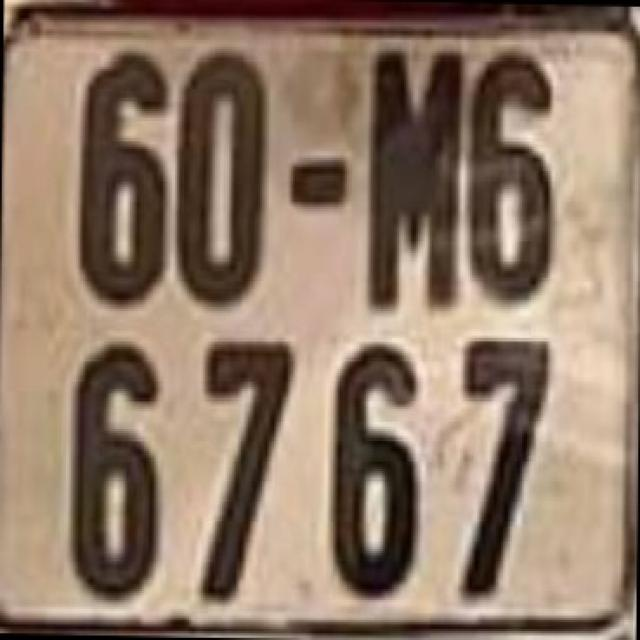0: (172, 42, 272, 309)
6: (64, 336, 165, 600), (326, 336, 423, 600), (74, 45, 170, 306), (464, 43, 560, 304)
7: (194, 331, 295, 607), (454, 328, 552, 602)
M: (359, 42, 467, 311)
